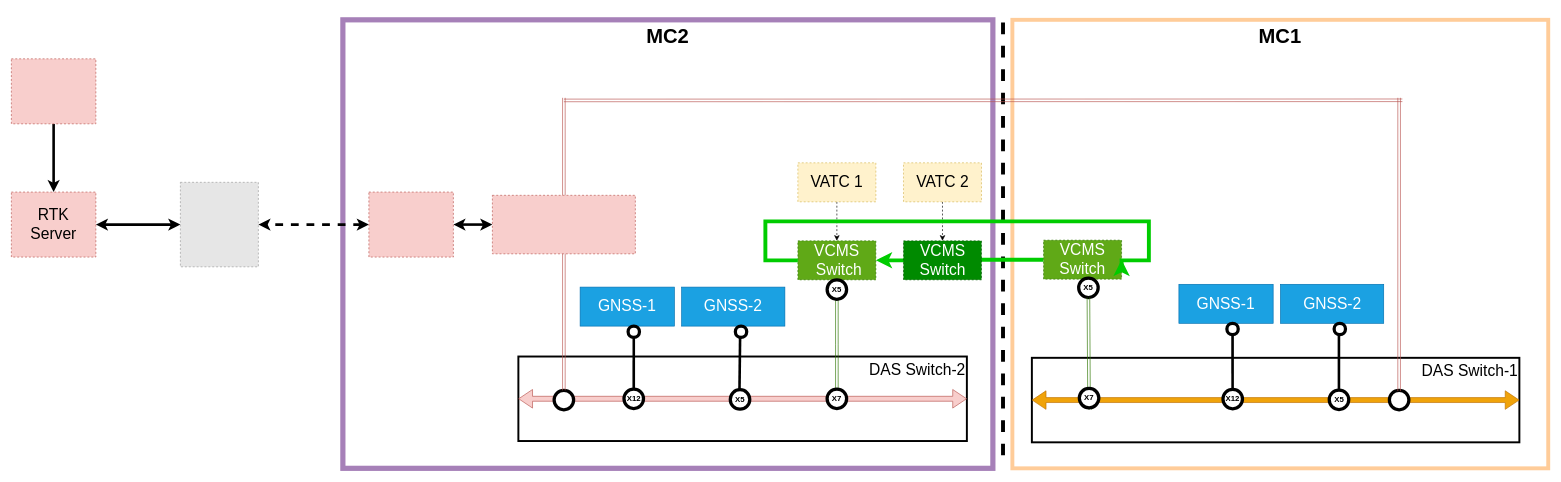
Image size: 1561x482. Some labels were removed from this diagram. Grey dashed boxes stand in for pictures. The shapes that lost their labels are listed below. From the top down, each one's centre as x and y in pixels, then its label:
the point at 53,91: RTK
the point at 410,224: S&CS AP
the point at 563,224: S&CS Switch
the point at 563,399: X3
the point at 1398,399: X2
